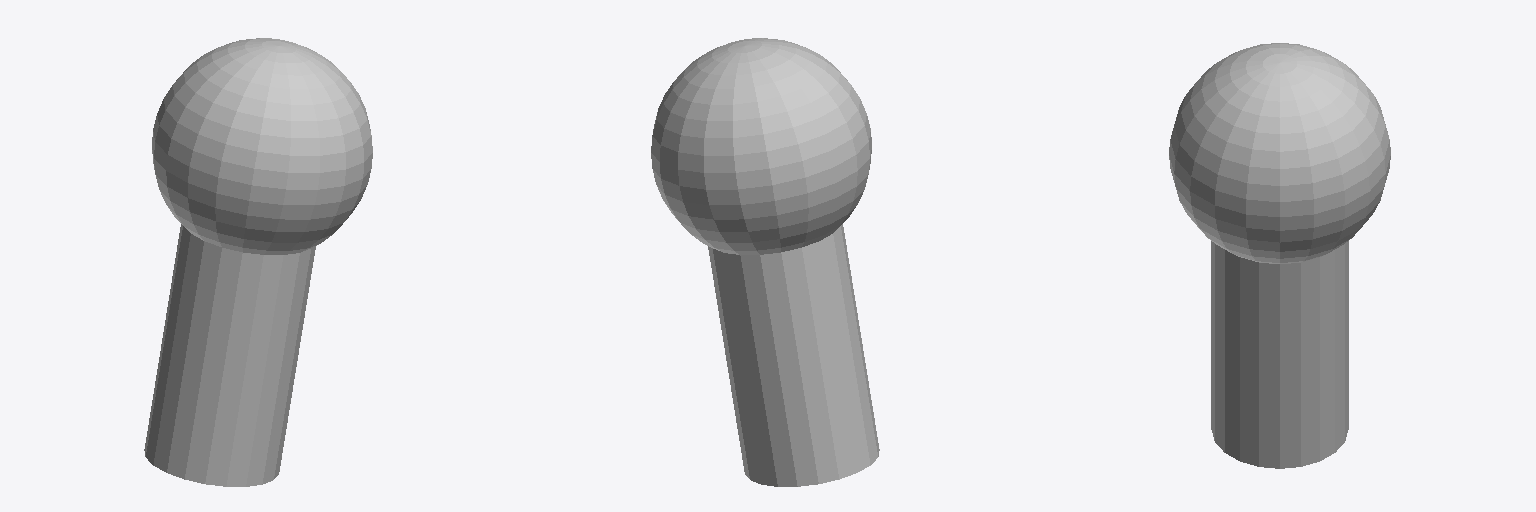
File: neck.obj
The picture shows the model from 3 angles: view 1: azimuth 30°, elevation 25°; view 2: azimuth 150°, elevation 25°; view 3: azimuth 270°, elevation 25°; orthographic projection.
Parts seen in each view (by area): view 1: pCylinder29 HEad pTorso pSphere12, pCylinder29 HEad pTorso; view 2: pCylinder29 HEad pTorso pSphere12, pCylinder29 HEad pTorso; view 3: pCylinder29 HEad pTorso pSphere12, pCylinder29 HEad pTorso.
Part boxes in pixels (x1,y1,x2,y2): pCylinder29 HEad pTorso pSphere12: (152, 38, 372, 254); pCylinder29 HEad pTorso: (144, 224, 315, 486); pCylinder29 HEad pTorso pSphere12: (651, 38, 871, 254); pCylinder29 HEad pTorso: (708, 224, 879, 486); pCylinder29 HEad pTorso pSphere12: (1169, 43, 1390, 263); pCylinder29 HEad pTorso: (1211, 241, 1348, 468).
Bounding box in the file's own units: 2.13 × 4.09 × 2.